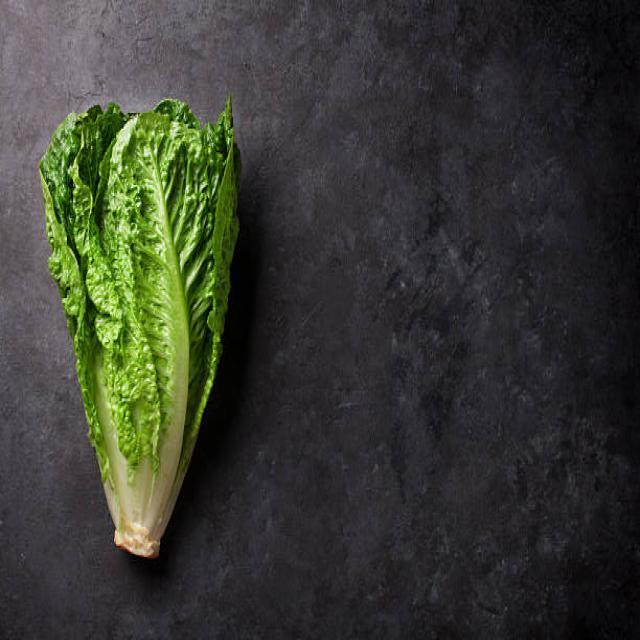Lettuce-Ready-to-Harvest: (40, 100, 239, 557)
